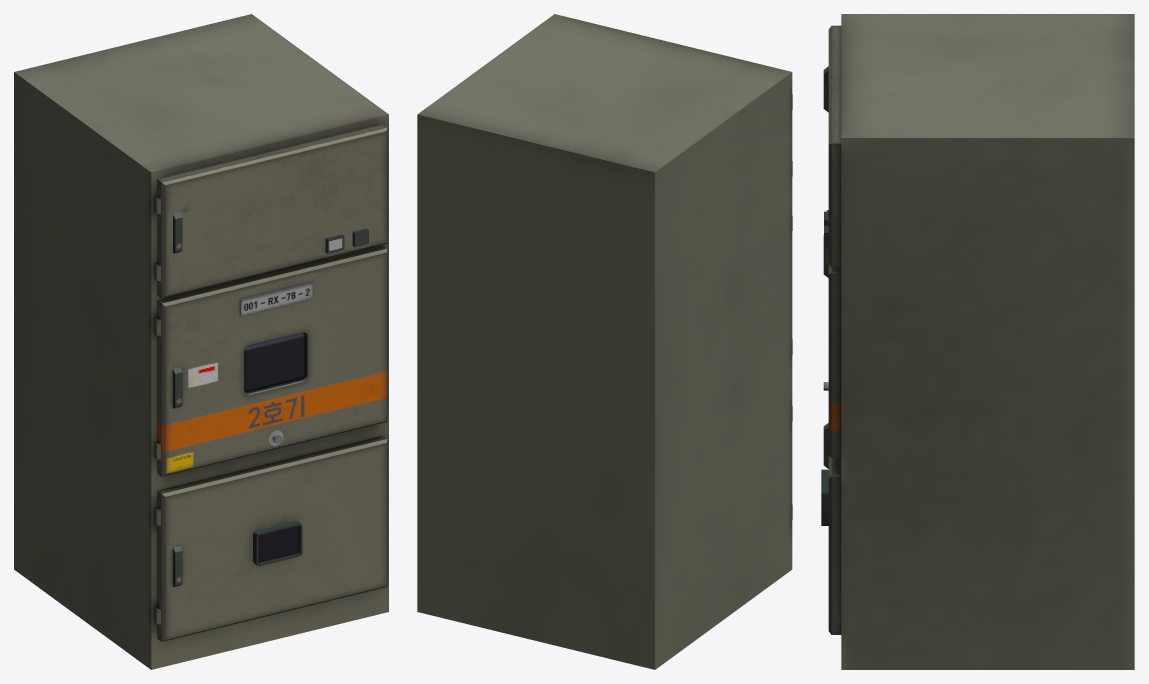
File: Elec_Distributor.fbx
3 renders of one model, left to right at view 1: azimuth 30°, elevation 25°; view 2: azimuth 150°, elevation 25°; view 3: azimuth 270°, elevation 25°, orthographic. The views are drawn at different scales.
Visible parts, largest first — view 1: ElecDistributor; view 2: ElecDistributor; view 3: ElecDistributor.
Boxes of the visible parts, left/top/right/bottom form: ElecDistributor: left=14, top=14, right=388, bottom=669; ElecDistributor: left=417, top=14, right=792, bottom=669; ElecDistributor: left=821, top=14, right=1134, bottom=669.
Size of the model in its own units: 1 by 2 by 1.07.
